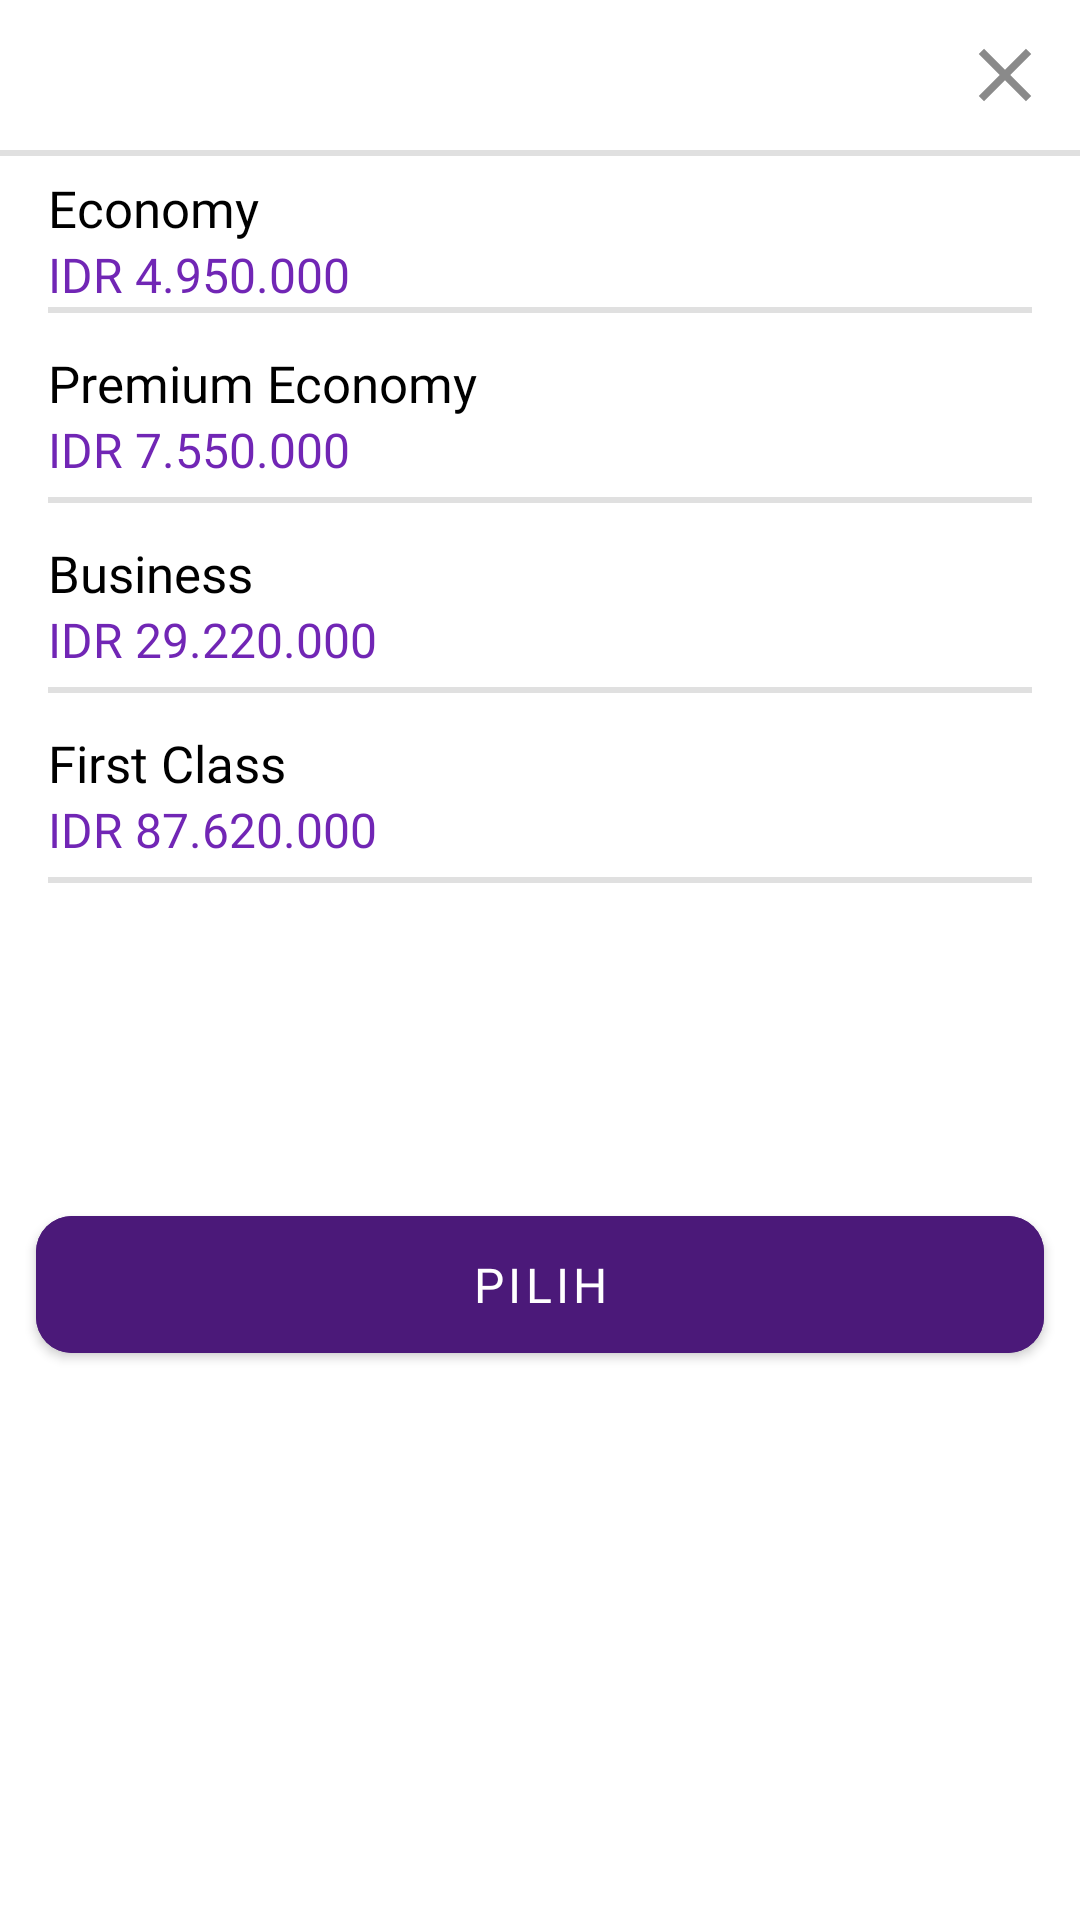

Screen size 1080 × 1920. Icon name, then its center in pixels as point (x, y):
close: point (1005, 75)
